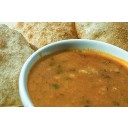poori: (1, 23, 34, 108), (13, 21, 77, 46)
